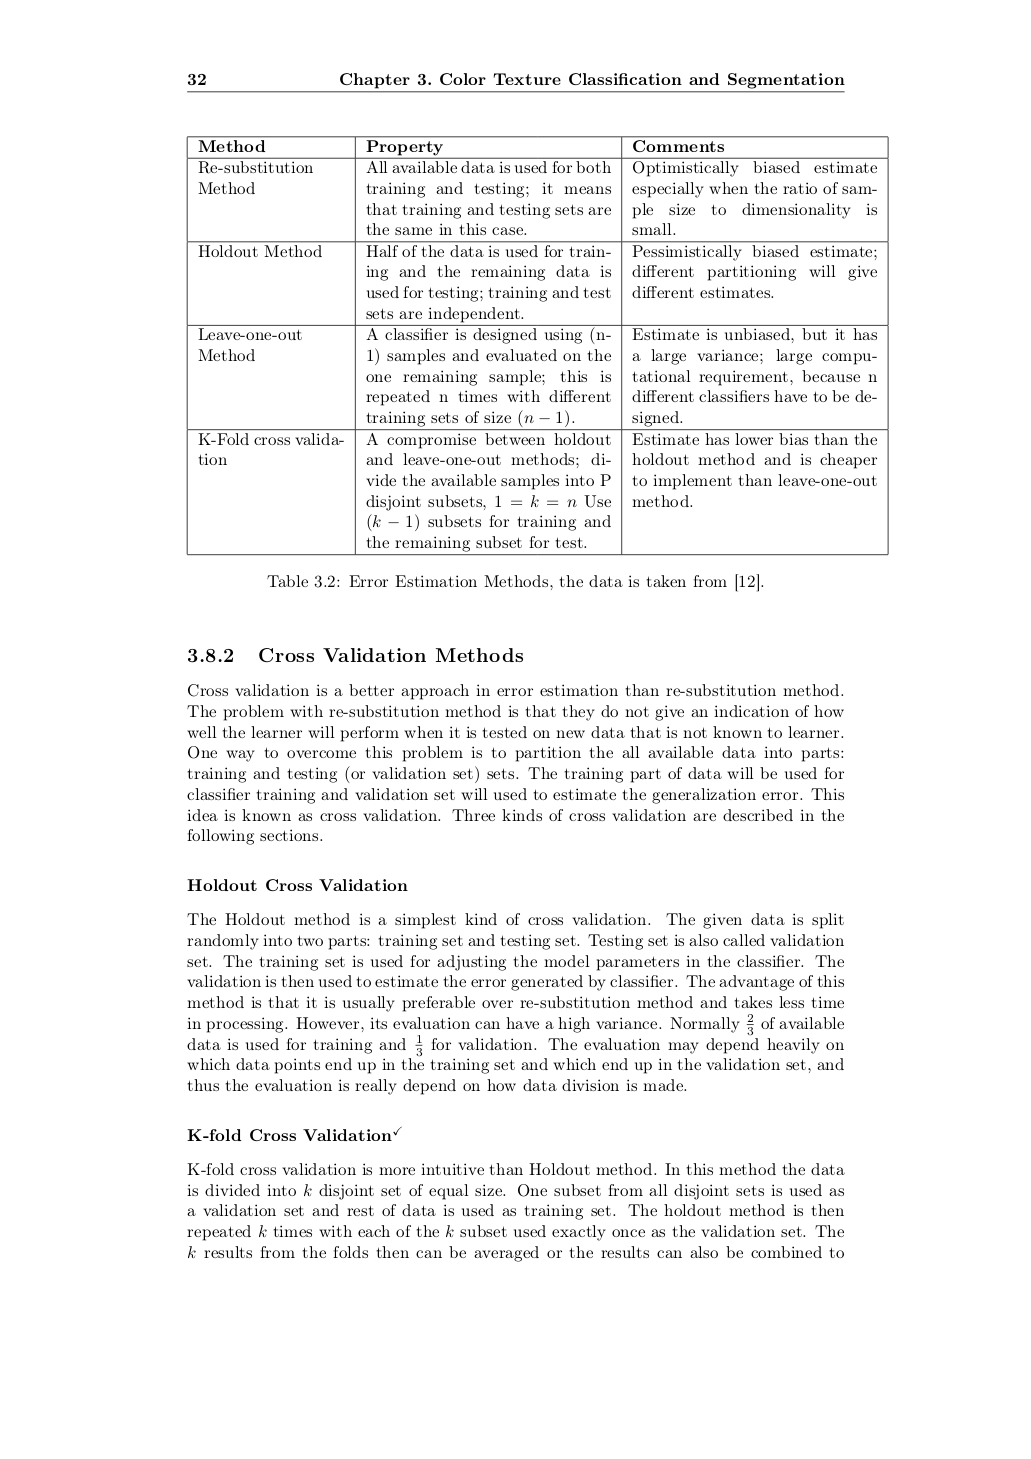Table: (186, 135, 888, 555)
